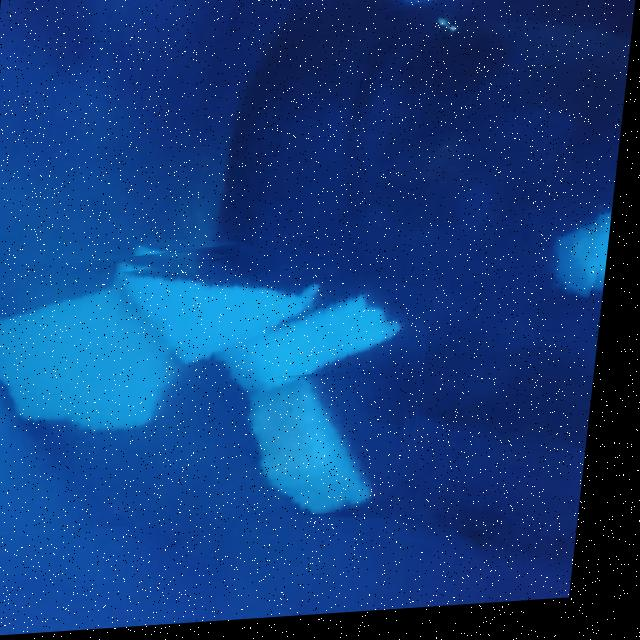litter: (0, 227, 446, 538), (118, 232, 442, 390), (0, 255, 212, 463), (220, 352, 434, 522), (537, 189, 620, 307), (332, 0, 491, 37)
